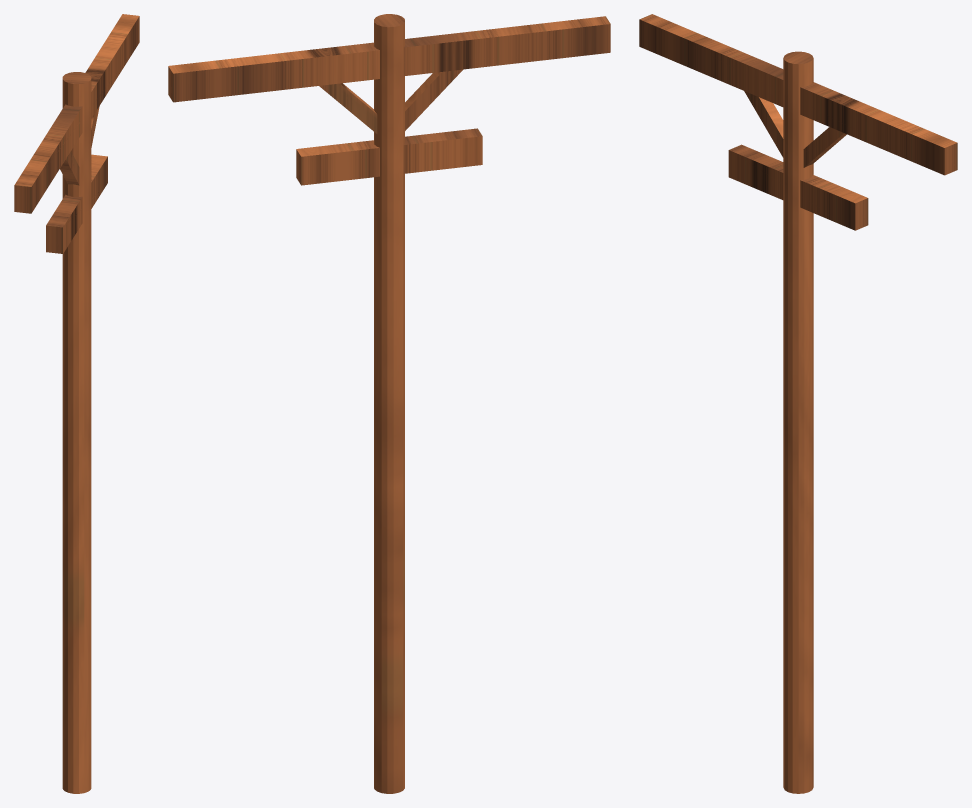
File: eletric_(pole)_(transformer)_wood_(light)_(table)_(dirty)_0.001.glb
3 renders of one model, left to right at view 1: azimuth 30°, elevation 25°; view 2: azimuth 150°, elevation 25°; view 3: azimuth 270°, elevation 25°, orthographic. The views are drawn at different scales.
Parts seen in each view (by area): view 1: eletric_(pole)_(transformer)_wood_(light)_(table)_(dirty)_0.; view 2: eletric_(pole)_(transformer)_wood_(light)_(table)_(dirty)_0.; view 3: eletric_(pole)_(transformer)_wood_(light)_(table)_(dirty)_0..
Boxes of the visible parts, x1,y1,x2,y2 form: eletric_(pole)_(transformer)_wood_(light)_(table)_(dirty)_0.: (14, 14, 139, 793); eletric_(pole)_(transformer)_wood_(light)_(table)_(dirty)_0.: (168, 14, 610, 793); eletric_(pole)_(transformer)_wood_(light)_(table)_(dirty)_0.: (639, 14, 957, 793).
Bounding box in the file's own units: 1.48 × 3.75 × 1.48.
Materials: 1 (1 with a texture image).
